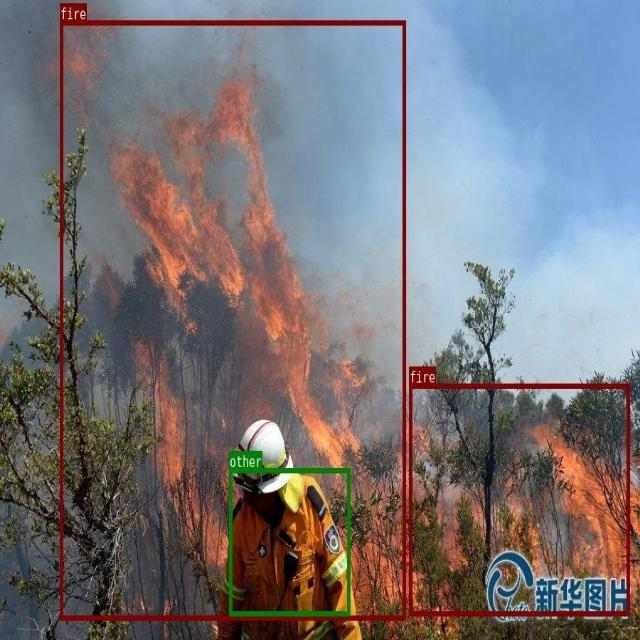fire: (59, 20, 405, 620), (409, 383, 630, 615)
